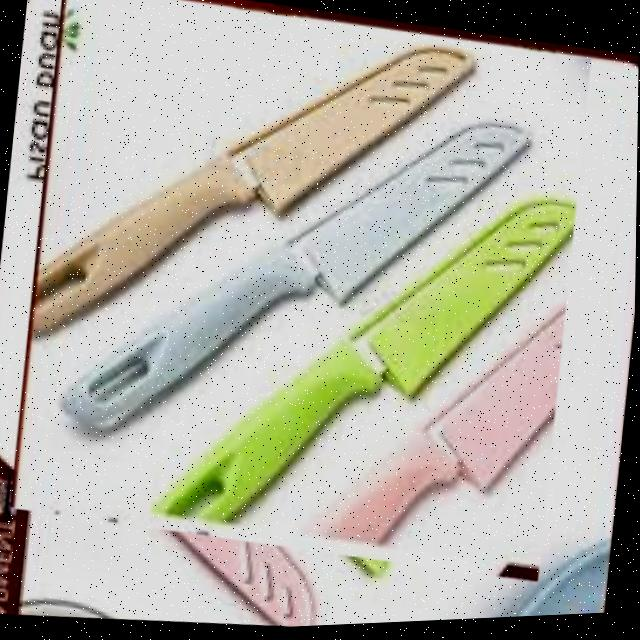knife: (9, 0, 594, 595)
